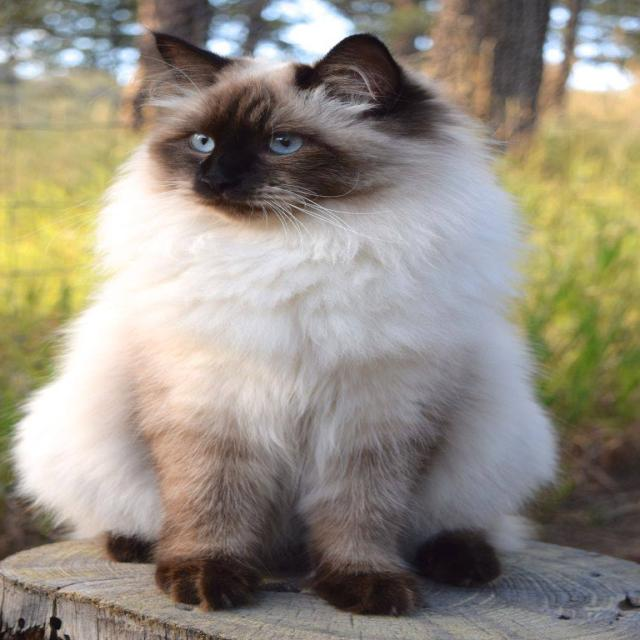Neva Masquerade: (1, 27, 570, 621)
